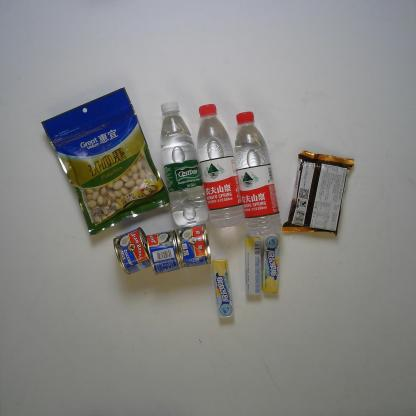Candy: (209, 258, 236, 324), (242, 235, 266, 298), (262, 233, 284, 297)
Canned Food: (144, 227, 187, 278), (174, 216, 213, 272), (110, 226, 154, 275)
Dessert: (278, 149, 357, 241)
Dried Fruit: (40, 84, 176, 239)
Drink: (154, 97, 209, 230), (231, 106, 284, 241), (193, 99, 244, 231)
